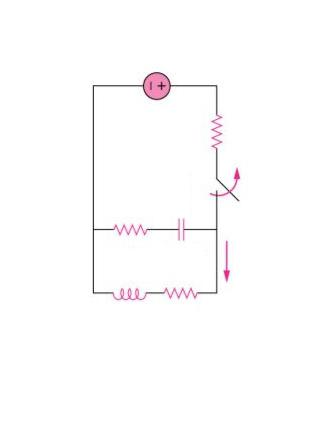resistor: (102, 206, 154, 235), (162, 276, 215, 302), (207, 101, 233, 147)
